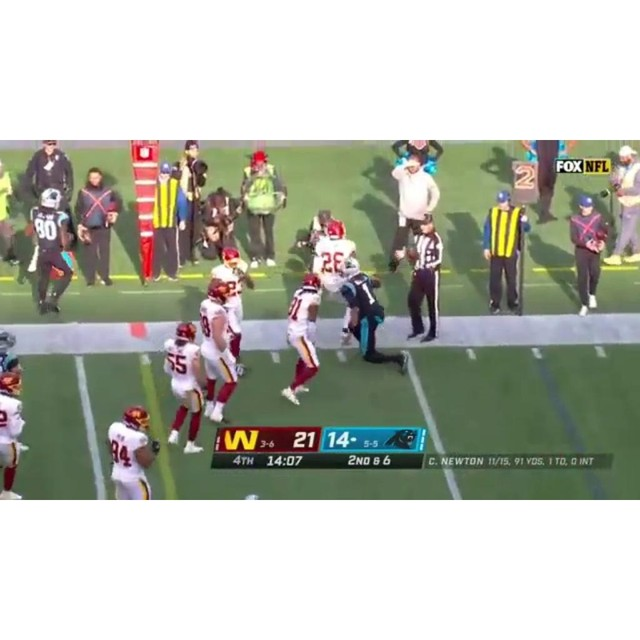american-football-player: (338, 258, 410, 375), (197, 277, 241, 426), (281, 275, 326, 405), (161, 323, 206, 453), (211, 249, 253, 371), (106, 407, 160, 499), (0, 373, 30, 498)
